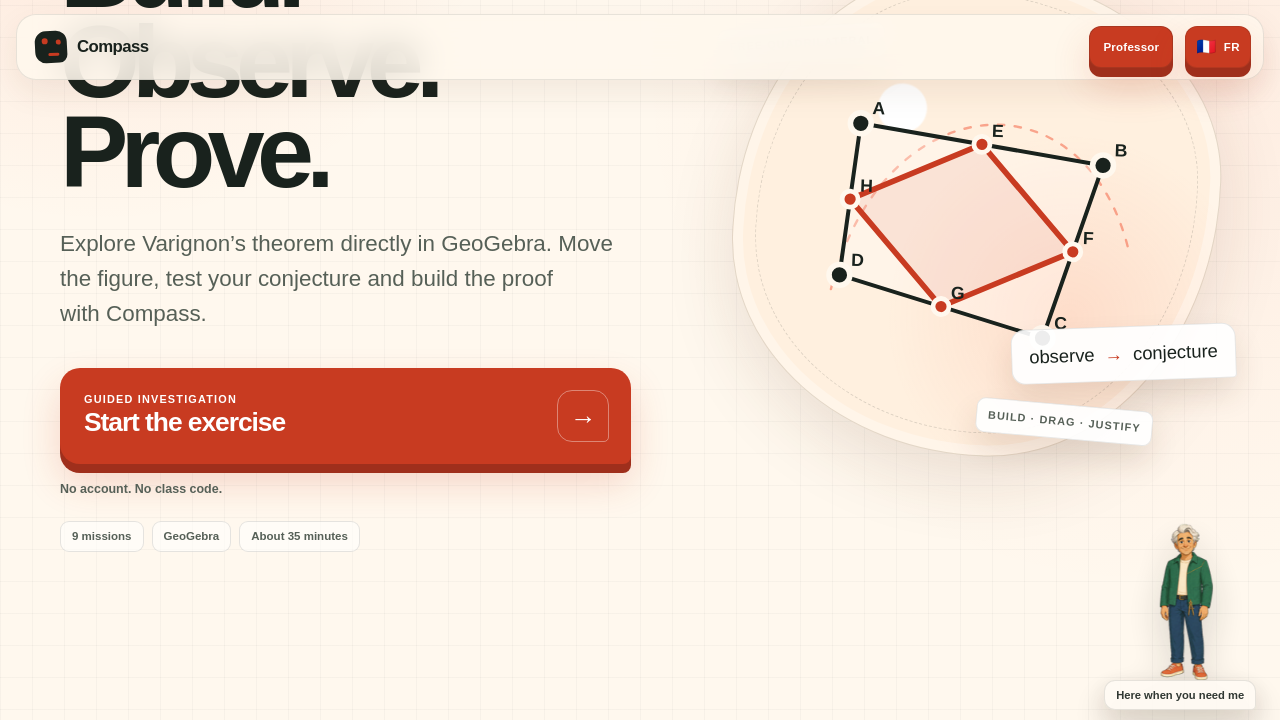
Scenario: Home › opens the teacher Varignon activity directly without class friction
(page scrolled)
Check: the text "No account. No class code." is shown, box [60,482,222,496]
Check: the button "Professor" is shown, box [1089,26,1173,68]
Click the button "Guided investigation Start the exercise →": coordinates (161, 399) [60,368,631,464]
(page scrolled)
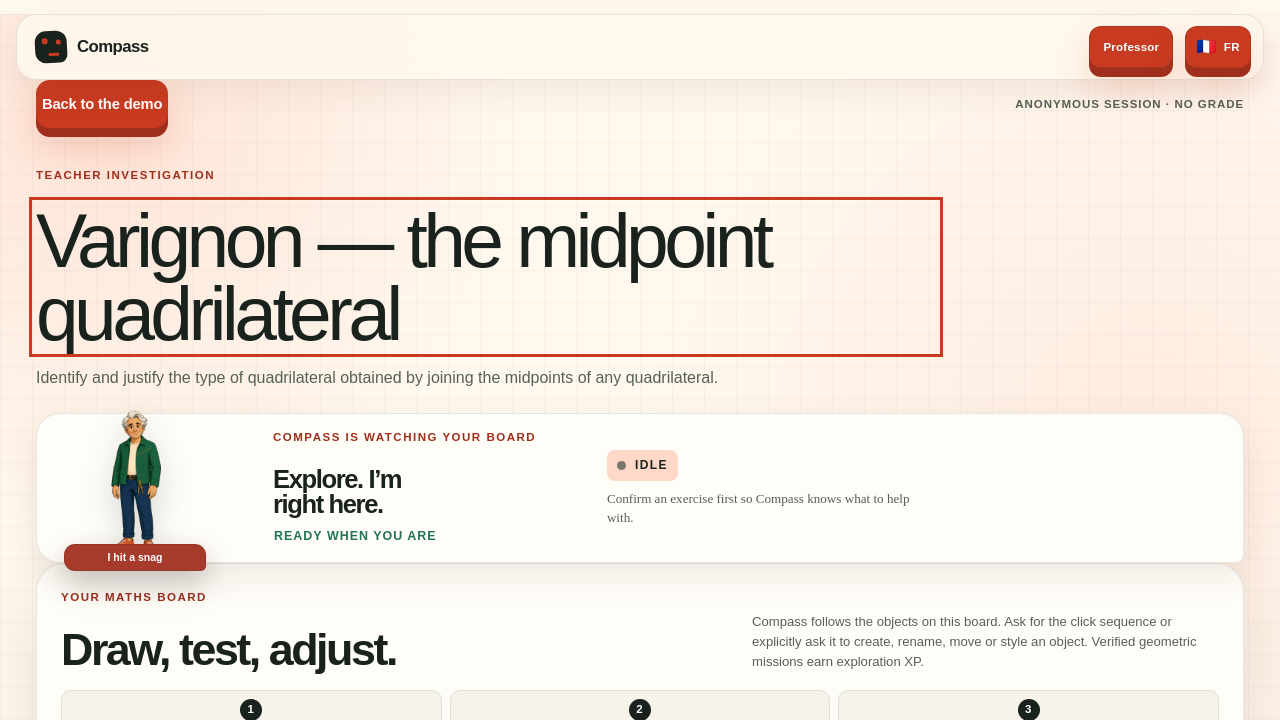
Check: the heading "Varignon — the midpoint quadrilateral" is shown, box [36,197,770,356]
Check: the button "Back to the demo" is shown, box [36,80,168,128]
Check: the text labelled "class code" is gone
